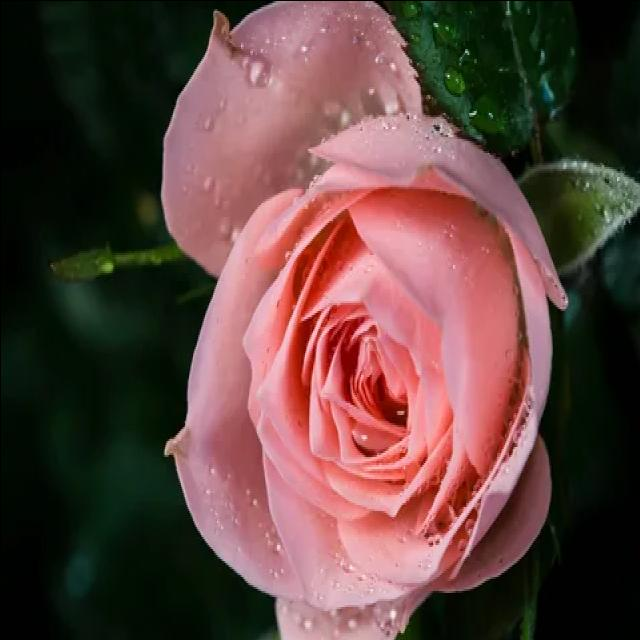rose: (163, 123, 559, 640)
